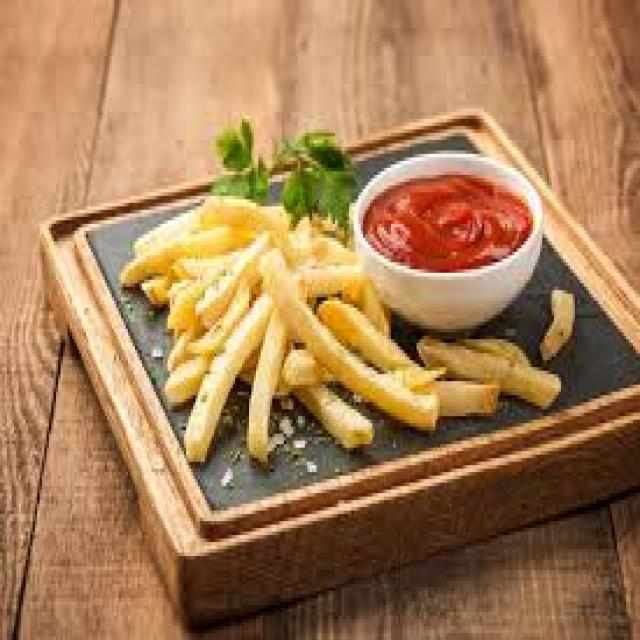fries: (132, 195, 375, 462), (372, 328, 559, 421)
